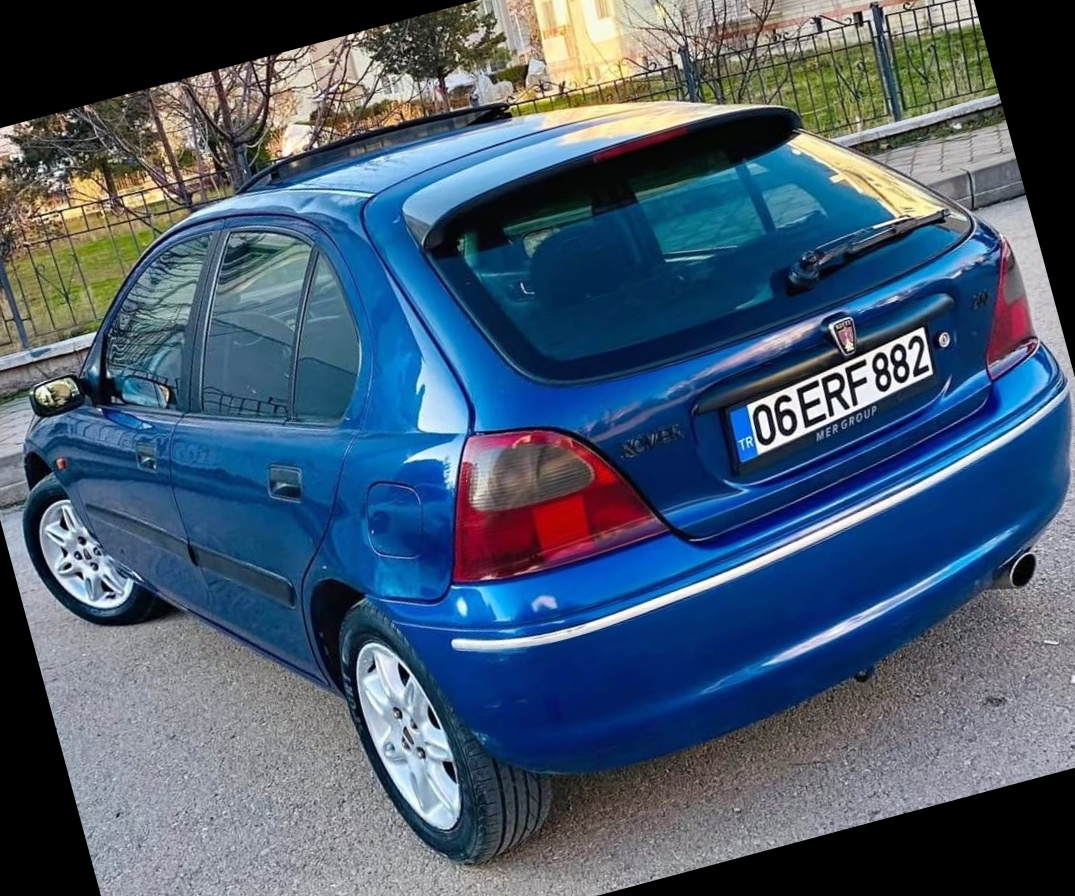plaka: (749, 329, 929, 460)
